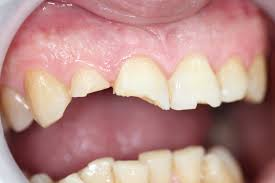normal: (172, 145, 204, 183), (139, 151, 173, 181), (79, 157, 112, 183), (111, 160, 146, 183), (249, 56, 265, 105), (30, 173, 53, 183)
rough: (111, 54, 169, 115), (171, 53, 220, 111), (68, 62, 110, 98)
yellow: (22, 70, 70, 126), (1, 86, 32, 132), (220, 59, 248, 102)
